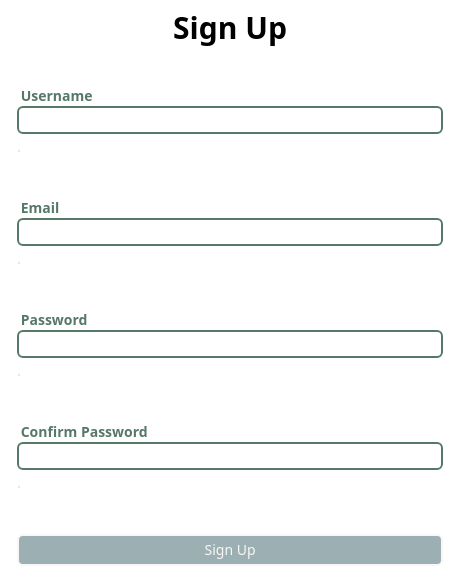
Test case: SignUp › Required fields Username, Email, Password and Confirm Password are empty
What coordinates should you click on to do the following:
click the field named "Username"
I would click on:
 (230, 120)
Its box is top-left (17, 106), bottom-right (443, 134).
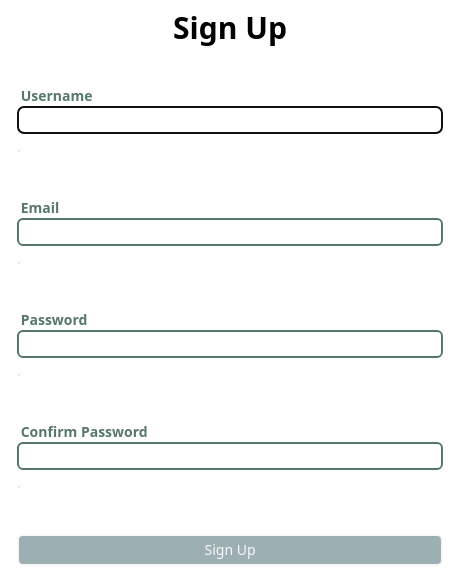
What coordinates should you click on to do the following:
click the field named "Email"
I would click on:
 (230, 232)
Its box is top-left (17, 218), bottom-right (443, 246).
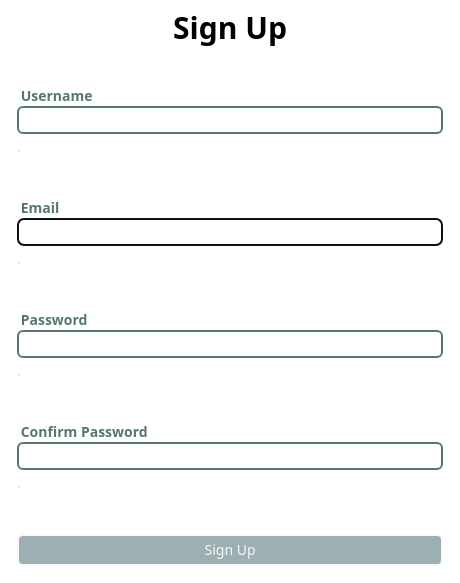
What coordinates should you click on to do the following:
click the password field named "Password"
I would click on:
 (230, 344)
Its box is top-left (17, 330), bottom-right (443, 358).
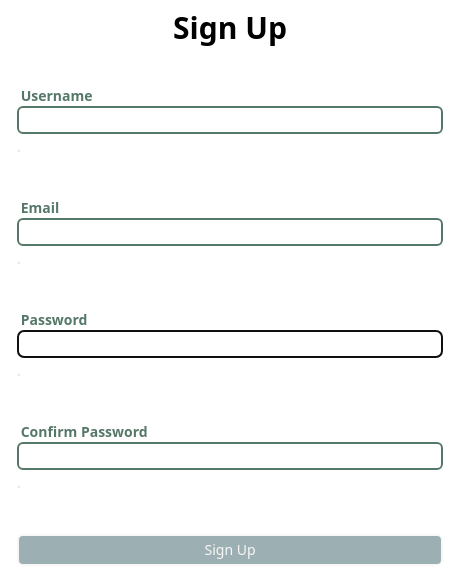
What coordinates should you click on to do the following:
click the password field named "Confirm Password"
I would click on:
 (230, 456)
Its box is top-left (17, 442), bottom-right (443, 470).
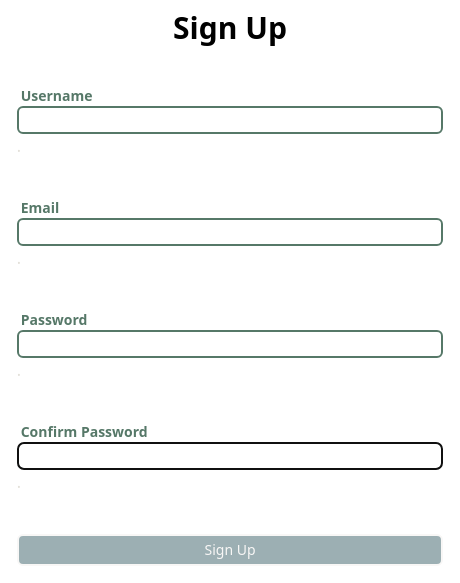
What coordinates should you click on to do the following:
click the button labelled "Sign Up"
I would click on:
 (230, 550)
Its box is top-left (17, 534), bottom-right (443, 566).
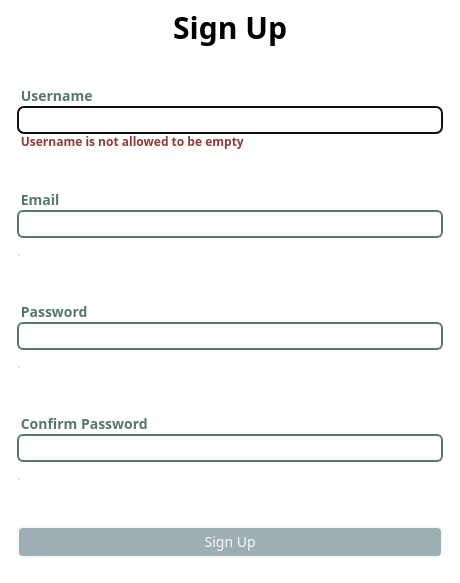
Expected: the number of messages is 1, top-left (21, 133), bottom-right (244, 150)
